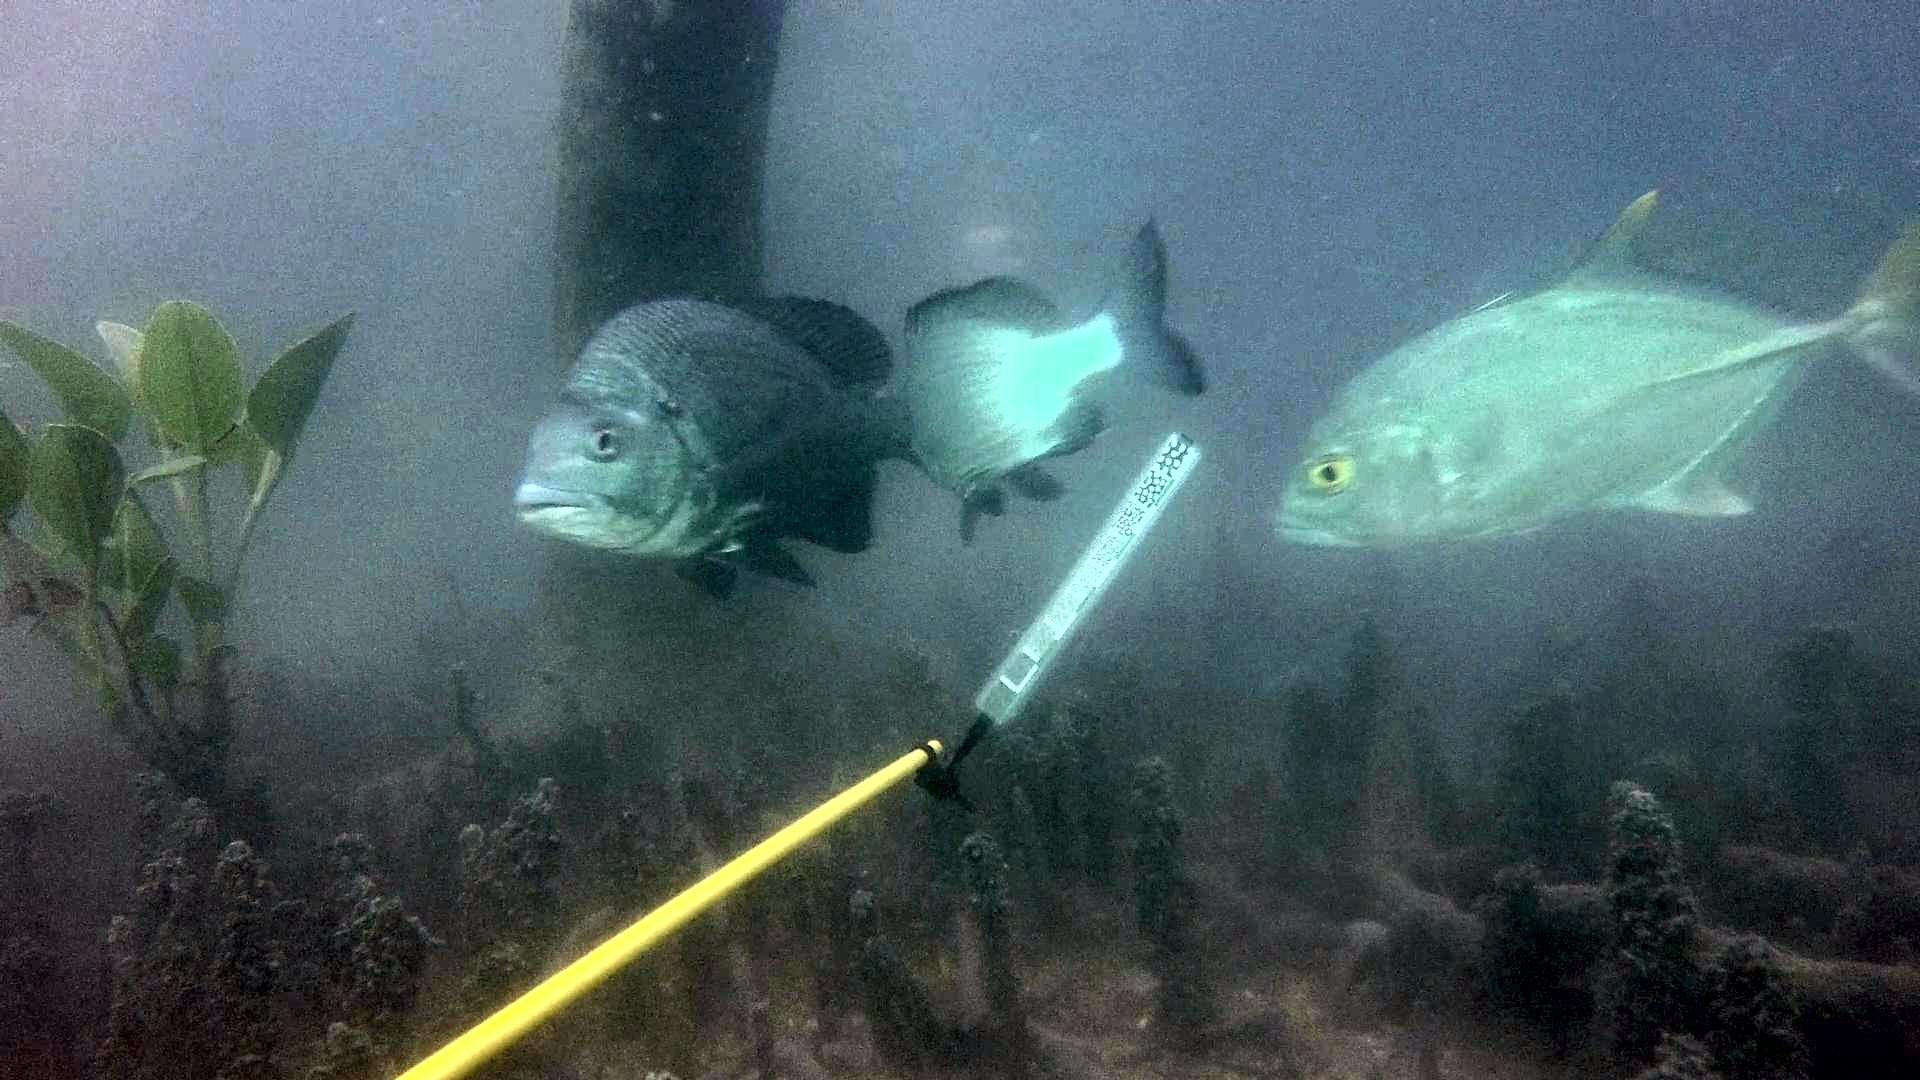acanthopagrus palmaris: (508, 248, 1048, 613), (876, 210, 1218, 549)
caranx: (1258, 170, 1920, 574)
